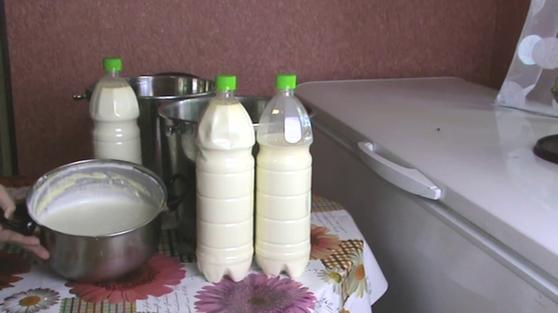milk: (196, 73, 254, 285), (256, 70, 314, 279)
